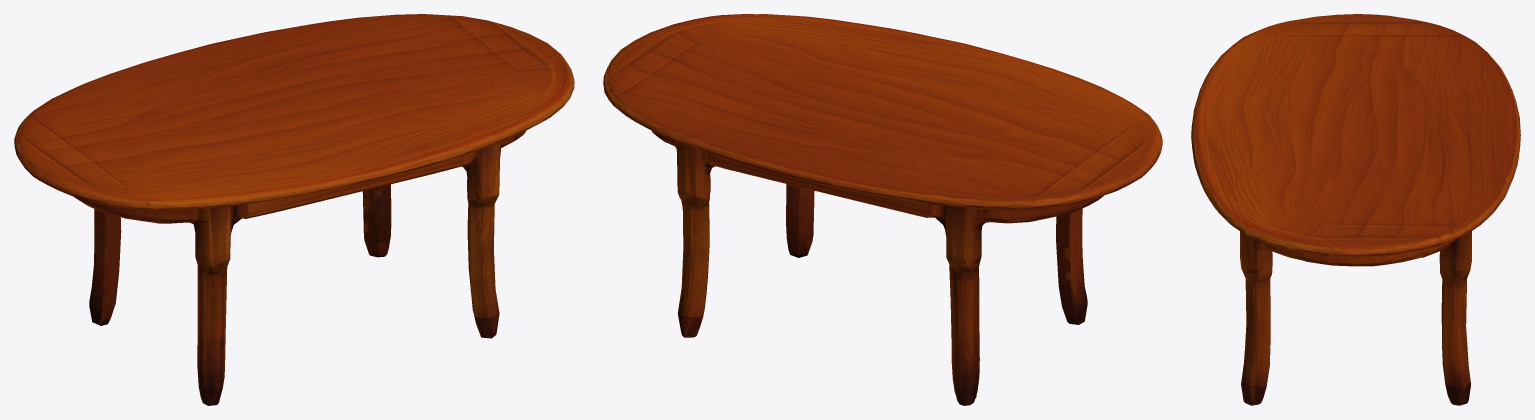
The model's file is coffeetable-hy3d.glb.
3 renders of one model, left to right at view 1: azimuth 30°, elevation 25°; view 2: azimuth 150°, elevation 25°; view 3: azimuth 270°, elevation 25°, orthographic. The views are drawn at different scales.
Visible parts, largest first — view 1: temp_mesh.ply; view 2: temp_mesh.ply; view 3: temp_mesh.ply.
Boxes of the visible parts, x1,y1,x2,y2 form: temp_mesh.ply: (14,14,574,405); temp_mesh.ply: (603,14,1162,405); temp_mesh.ply: (1191,14,1520,405).
Bounding box in the file's own units: 2 × 0.8159 × 1.17.
1 material, 1 textured.
